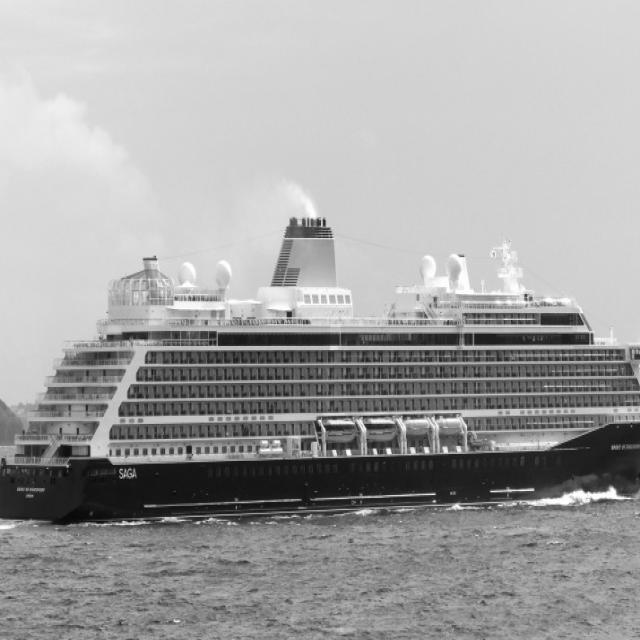cruises: (1, 193, 640, 509)
